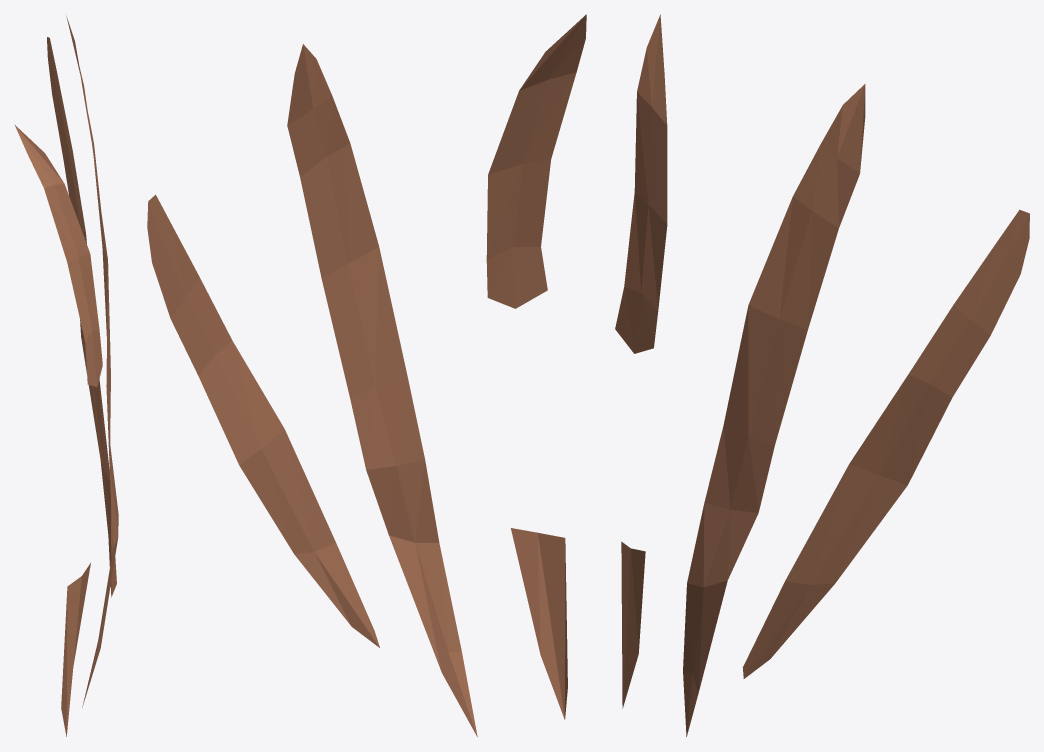
The model's file is miscLionScarFemale.glb.
3 renders of one model, left to right at view 1: azimuth 30°, elevation 25°; view 2: azimuth 150°, elevation 25°; view 3: azimuth 270°, elevation 25°, orthographic. The views are drawn at different scales.
Visible parts, largest first — view 1: miscLionScarFemale; view 2: miscLionScarFemale; view 3: miscLionScarFemale.
Boxes of the visible parts, x1,y1,x2,y2 form: miscLionScarFemale: (14,16,118,736); miscLionScarFemale: (147,14,586,736); miscLionScarFemale: (615,14,1029,736).
Size of the model in its own units: 0.044 by 0.1308 by 0.0713.
